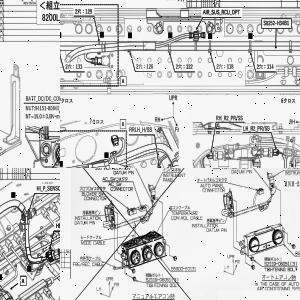PartNumber: (263, 20, 290, 26), (264, 261, 290, 267), (35, 105, 59, 111), (145, 277, 171, 282), (171, 266, 196, 271), (294, 250, 300, 255)
